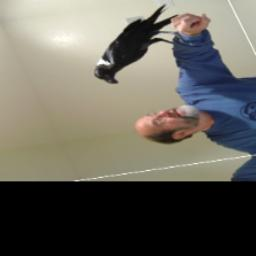Crow: (60, 2, 207, 88)
